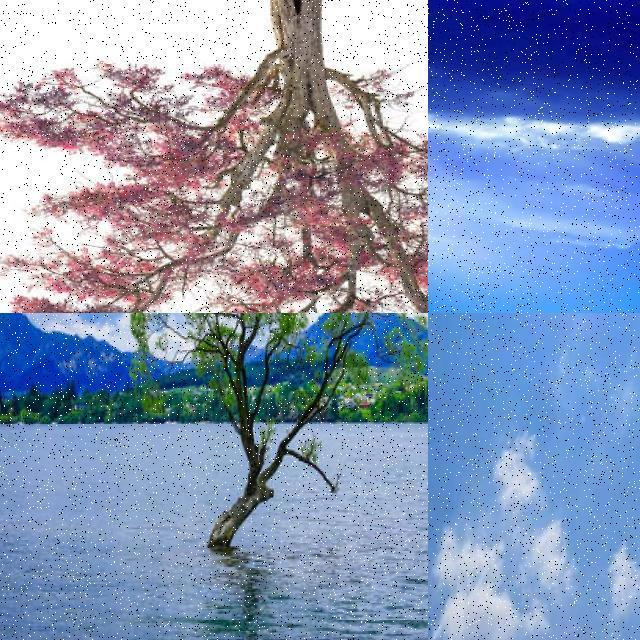tree: (0, 0, 428, 312), (136, 313, 428, 552), (428, 312, 532, 640)
